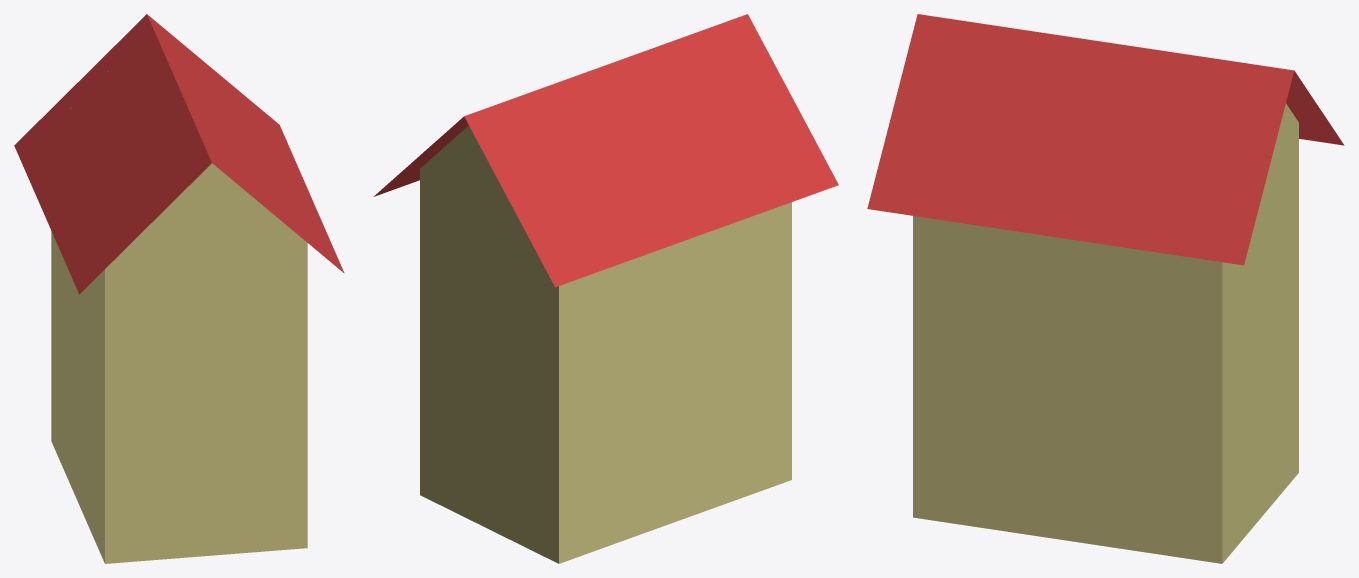
3 renders of one model, left to right at view 1: azimuth 30°, elevation 25°; view 2: azimuth 150°, elevation 25°; view 3: azimuth 270°, elevation 25°, orthographic. The views are drawn at different scales.
Bounding box in the file's own units: 5.85 × 6.69 × 7.01.
